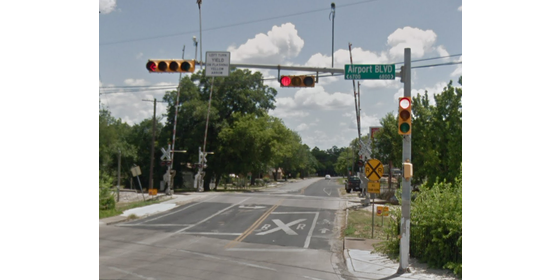left turn yield on flashing yellow arrow sign: (203, 48, 232, 80)
street name sign: (342, 62, 398, 81)
